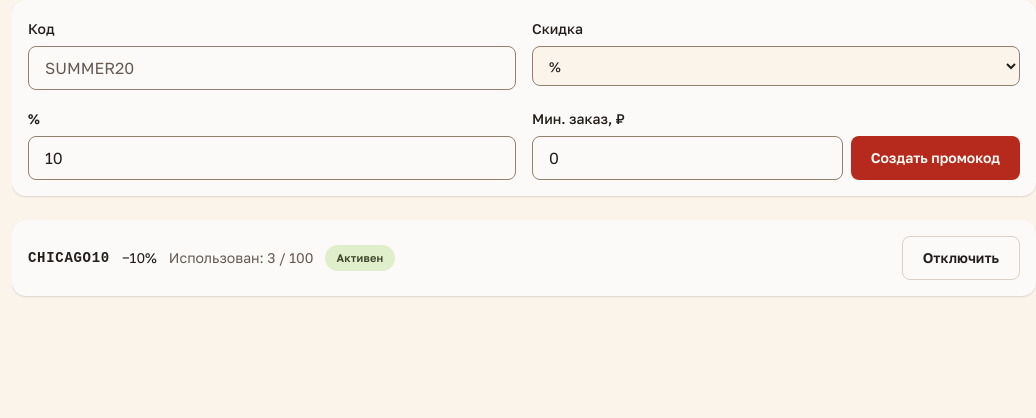
Test: promocode activation › retains the confirmed status if the list refresh fails after saving
Step 1. Click the button with aria-label "Отключить промокод CHICAGO10" → (961, 258), box [902,236,1020,280]
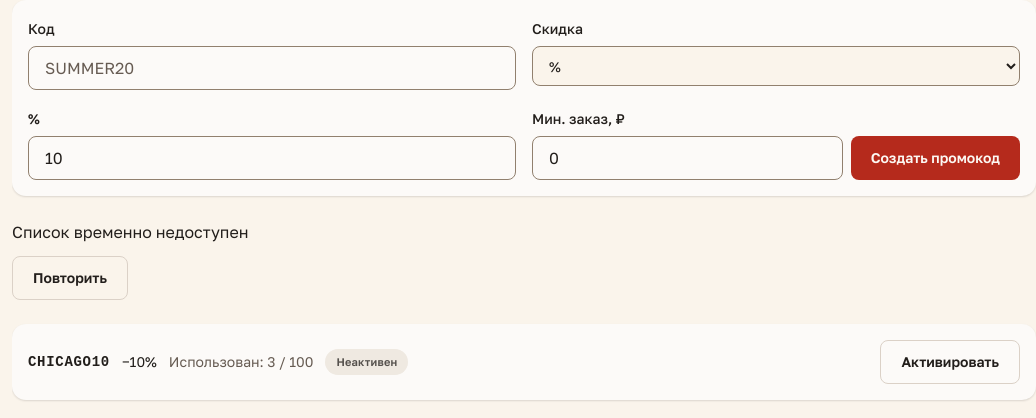
Expected: the message shows "Список временно недоступен", [12,222,248,242]
Expected: the button "Повторить" is enabled, [12,256,128,300]
Expected: the text "Неактивен" is shown, [325,349,408,375]
